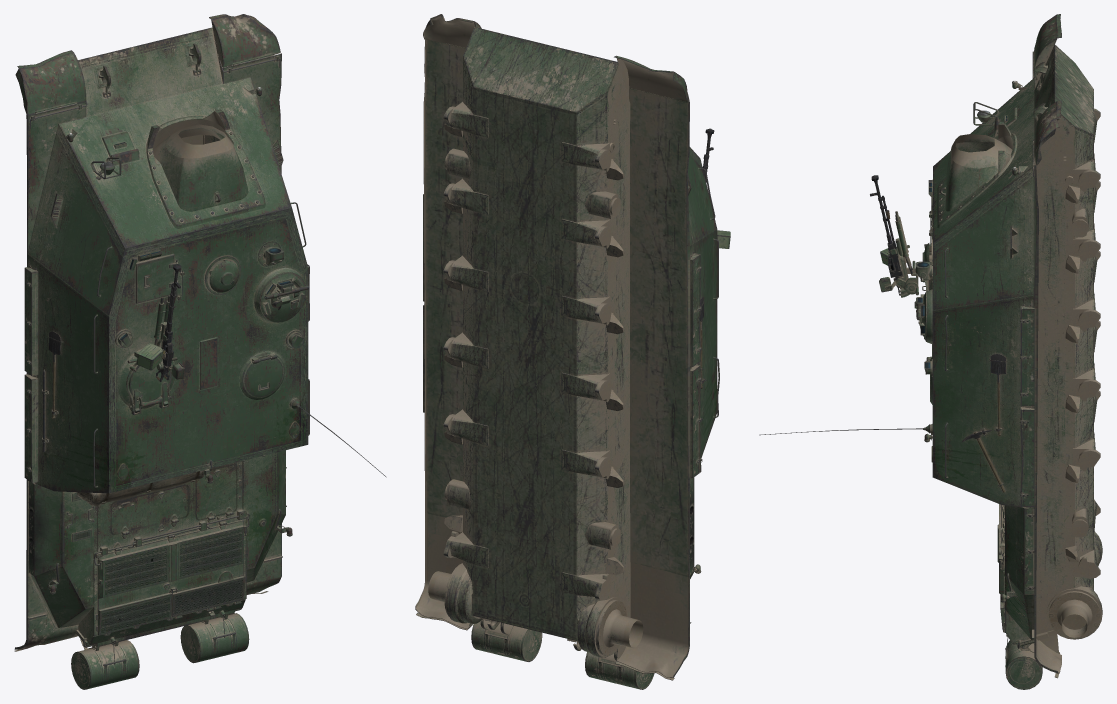
Rendered from Hull.glb.
The picture shows the model from 3 angles, left to right: view 1: azimuth 30°, elevation 25°; view 2: azimuth 150°, elevation 25°; view 3: azimuth 270°, elevation 25°; orthographic projection. The views are drawn at different scales.
Parts seen in each view (by area): view 1: set_0_group_0; view 2: set_0_group_0; view 3: set_0_group_0.
Part boxes in pixels (<box>): set_0_group_0: <box>14,14,386,689</box>; set_0_group_0: <box>415,14,730,689</box>; set_0_group_0: <box>759,14,1102,689</box>.
Bounding box in the file's own units: 3.53 × 7.87 × 4.19.
Materials: 1 (1 with a texture image).
